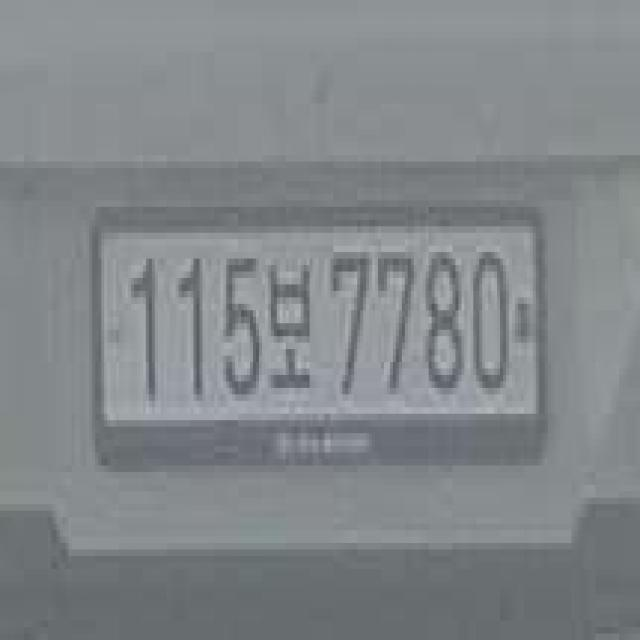illegal_plate: (90, 192, 547, 480)
